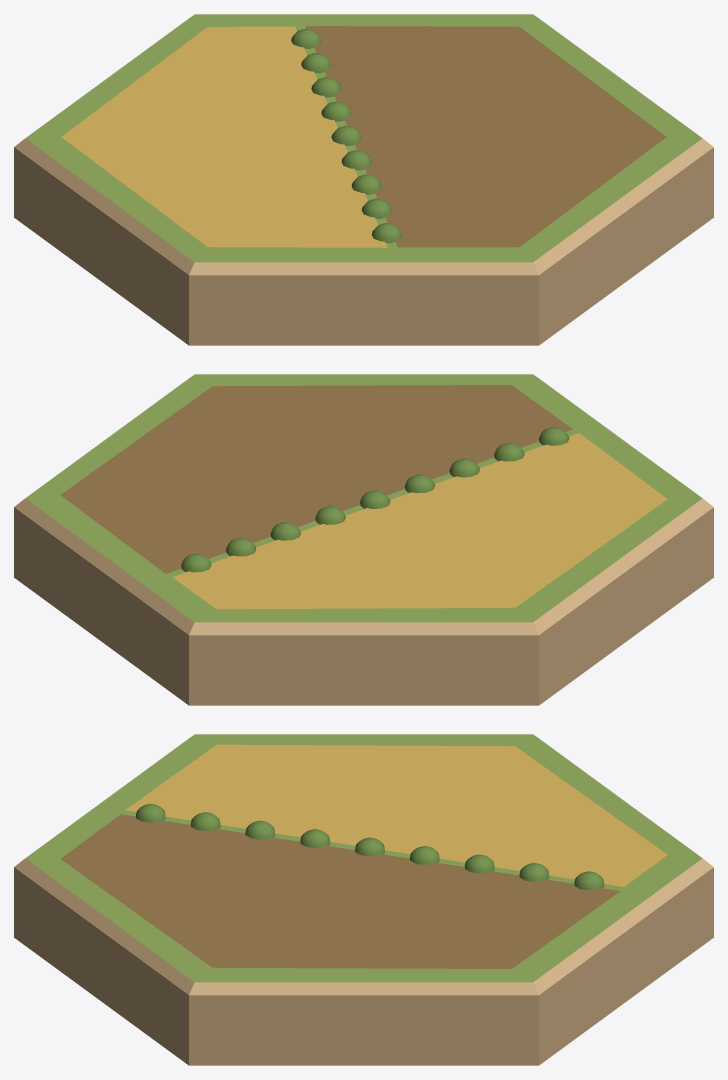
File: tile_fields_1.fbx
3 renders of one model, top to bottom at view 1: azimuth 30°, elevation 25°; view 2: azimuth 150°, elevation 25°; view 3: azimuth 270°, elevation 25°, orthographic.
Parts seen in each view (by area): view 1: tile_fields_1; view 2: tile_fields_1; view 3: tile_fields_1.
Part boxes in pixels (<box>): tile_fields_1: <box>14,14,713,345</box>; tile_fields_1: <box>14,374,713,705</box>; tile_fields_1: <box>14,734,713,1065</box>.
Size of the model in its own units: 1.73 by 0.2882 by 2.
